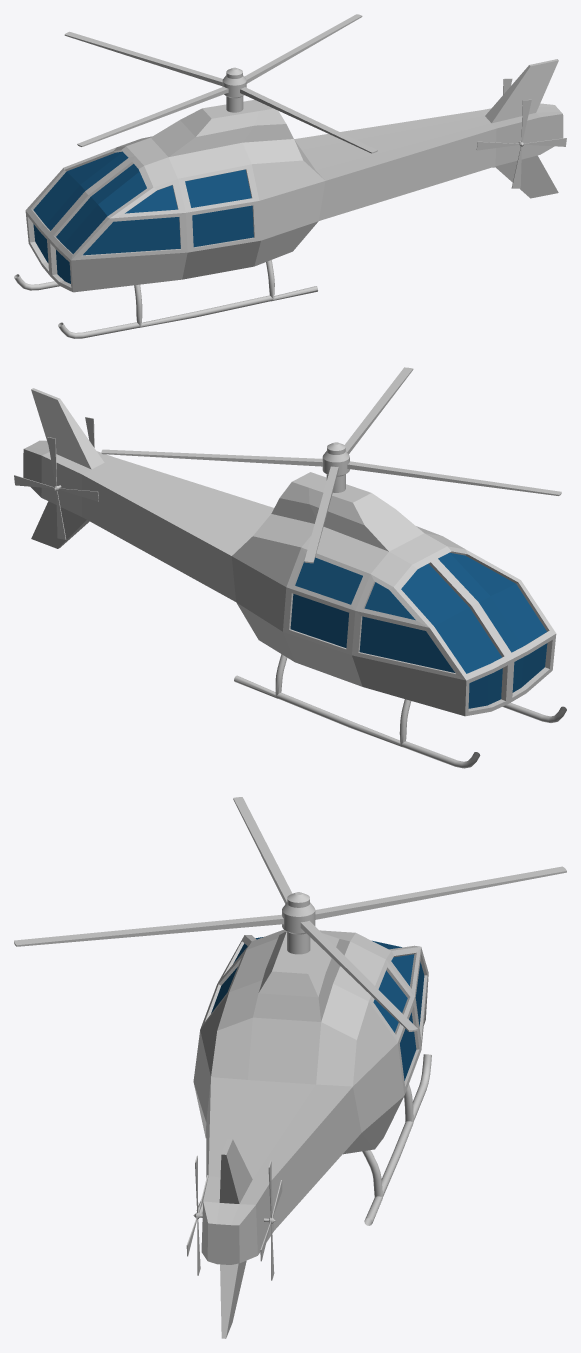
File: helicopter_animation_000183.obj
3 views of the same model, one above another, from view 1: azimuth 30°, elevation 25°; view 2: azimuth 150°, elevation 25°; view 3: azimuth 270°, elevation 25° (orthographic). The views are drawn at different scales.
Parts seen in each view (by area): view 1: Helicopter.007_Cylinder.008, Helicopter.001_Cylinder.001, Helicopter.003_Cylinder.004; view 2: Helicopter.007_Cylinder.008, Helicopter.001_Cylinder.001, Helicopter.004_Cylinder.005; view 3: Helicopter.007_Cylinder.008, Helicopter.001_Cylinder.001.
Boxes of the visible parts, box(x1,y1,x2,y2) form: Helicopter.007_Cylinder.008: box(14, 59, 563, 338); Helicopter.001_Cylinder.001: box(64, 14, 377, 153); Helicopter.003_Cylinder.004: box(476, 99, 566, 188); Helicopter.007_Cylinder.008: box(23, 388, 566, 768); Helicopter.001_Cylinder.001: box(101, 367, 561, 563); Helicopter.004_Cylinder.005: box(14, 437, 98, 539); Helicopter.007_Cylinder.008: box(193, 929, 431, 1338); Helicopter.001_Cylinder.001: box(14, 797, 566, 1031).
Bounding box in the file's own units: 7.56 × 3.2 × 5.33.
